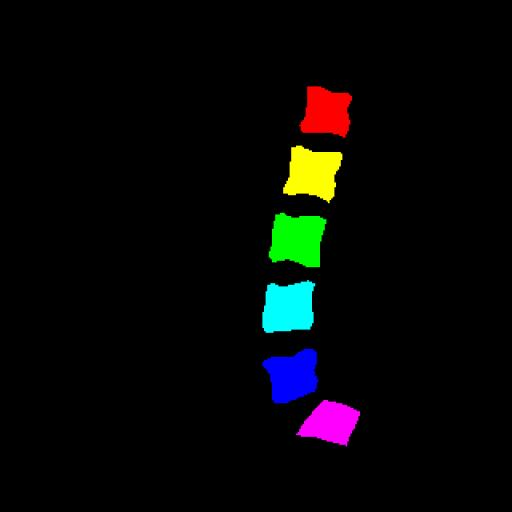L1: (300, 86, 352, 137)
L2: (283, 146, 342, 202)
L3: (269, 213, 326, 267)
L4: (262, 281, 315, 333)
L5: (263, 349, 318, 403)
S1: (297, 400, 360, 446)
